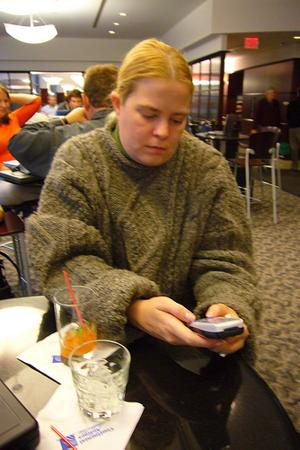person: (29, 38, 300, 450)
